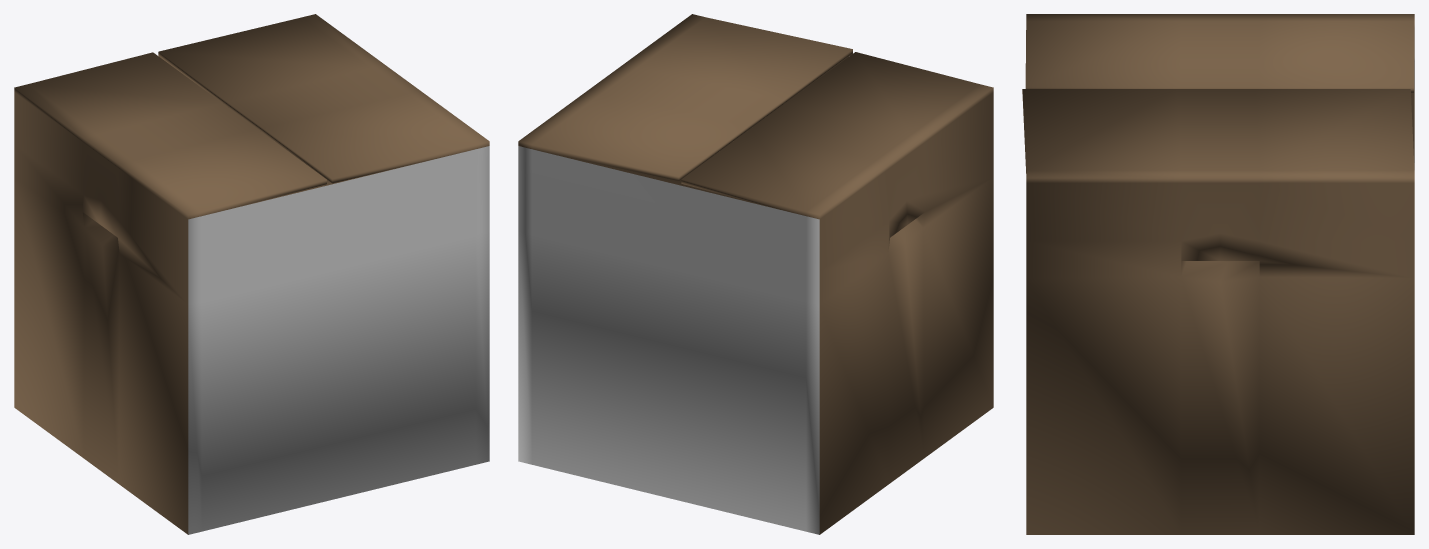
Rendered from box-closed-lid.fbx.
The picture shows the model from 3 angles, left to right: view 1: azimuth 30°, elevation 25°; view 2: azimuth 150°, elevation 25°; view 3: azimuth 270°, elevation 25°; orthographic projection. The views are drawn at different scales.
Parts seen in each view (by area): view 1: Cube.002; view 2: Cube.002; view 3: Cube.002.
Part boxes in pixels (<box>): Cube.002: <box>14,14,489,534</box>; Cube.002: <box>518,14,993,534</box>; Cube.002: <box>1022,14,1414,534</box>.
Bounding box in the file's own units: 202 × 204 × 202.
